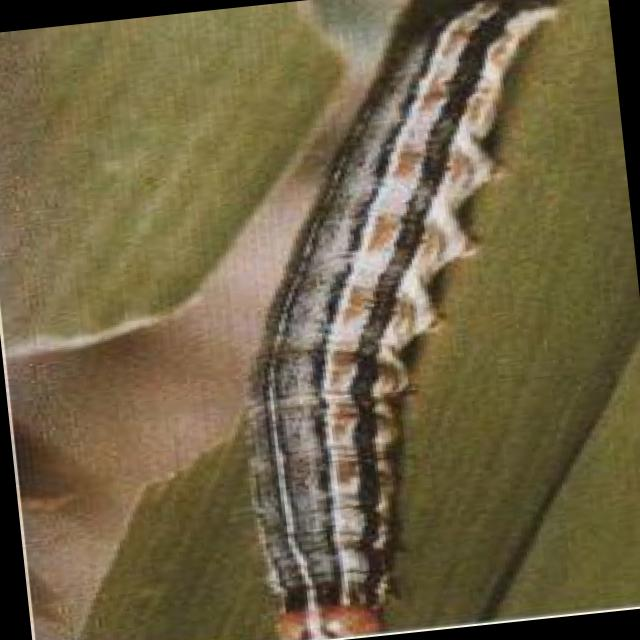armyworm: (168, 1, 640, 640)
